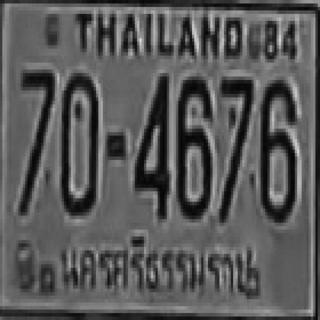N00: (59, 70, 98, 212)
N04: (133, 70, 167, 216)
N06: (258, 76, 295, 219), (175, 73, 212, 216)
N07: (16, 66, 52, 212), (217, 73, 251, 219)
P32: (56, 233, 255, 301)
